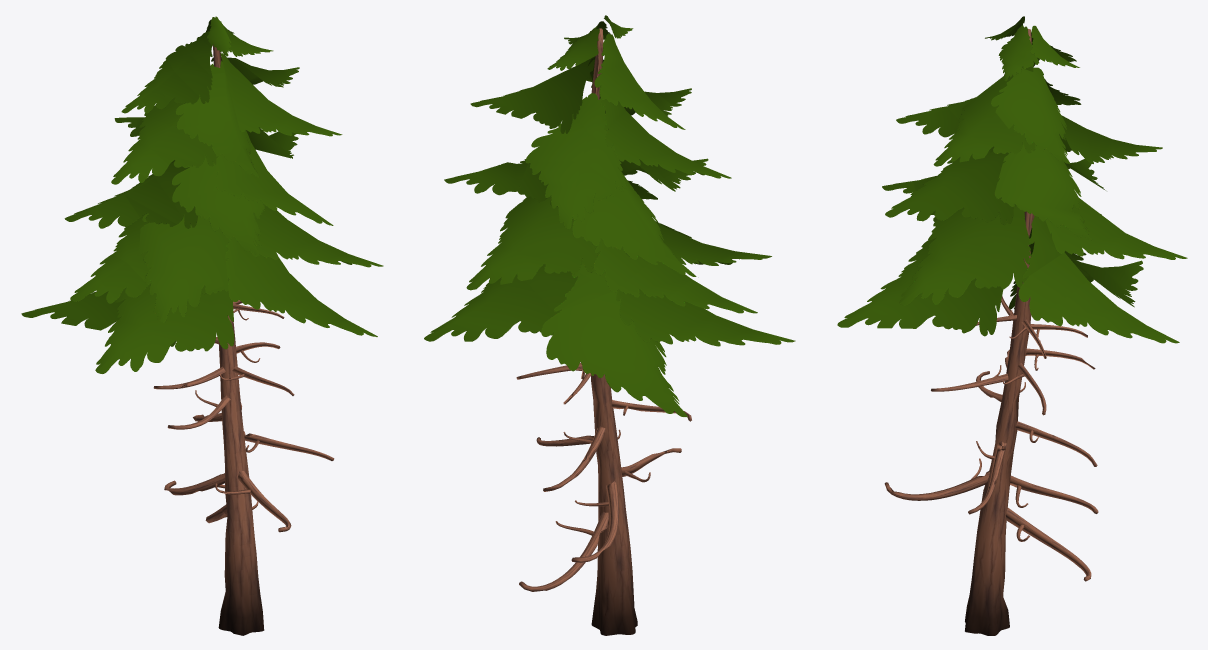
Rendered from nature-pine-3.glb.
3 renders of one model, left to right at view 1: azimuth 30°, elevation 25°; view 2: azimuth 150°, elevation 25°; view 3: azimuth 270°, elevation 25°, orthographic. The views are drawn at different scales.
Parts seen in each view (by area): view 1: Pine_3; view 2: Pine_3; view 3: Pine_3.
Boxes of the visible parts, x1,y1,x2,y2 form: Pine_3: (21, 16, 383, 635); Pine_3: (424, 15, 795, 635); Pine_3: (837, 16, 1187, 635).
Size of the model in its own units: 3.61 by 7.39 by 4.
2 materials, 2 textured.
